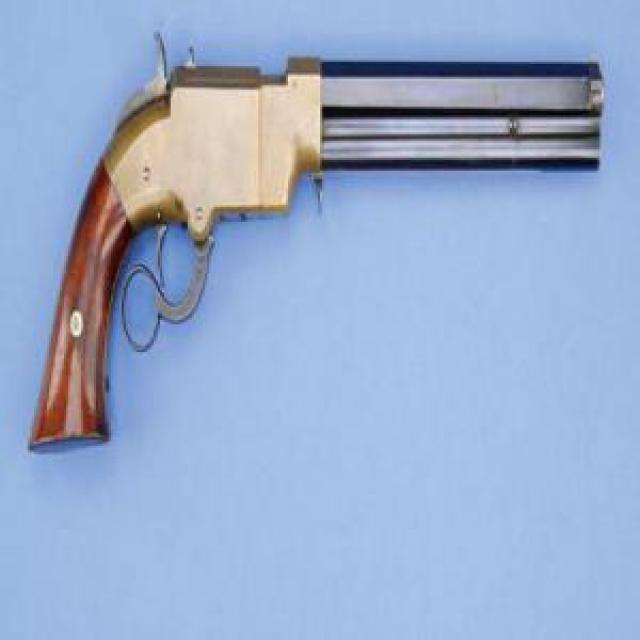pistol: (28, 21, 602, 459)
